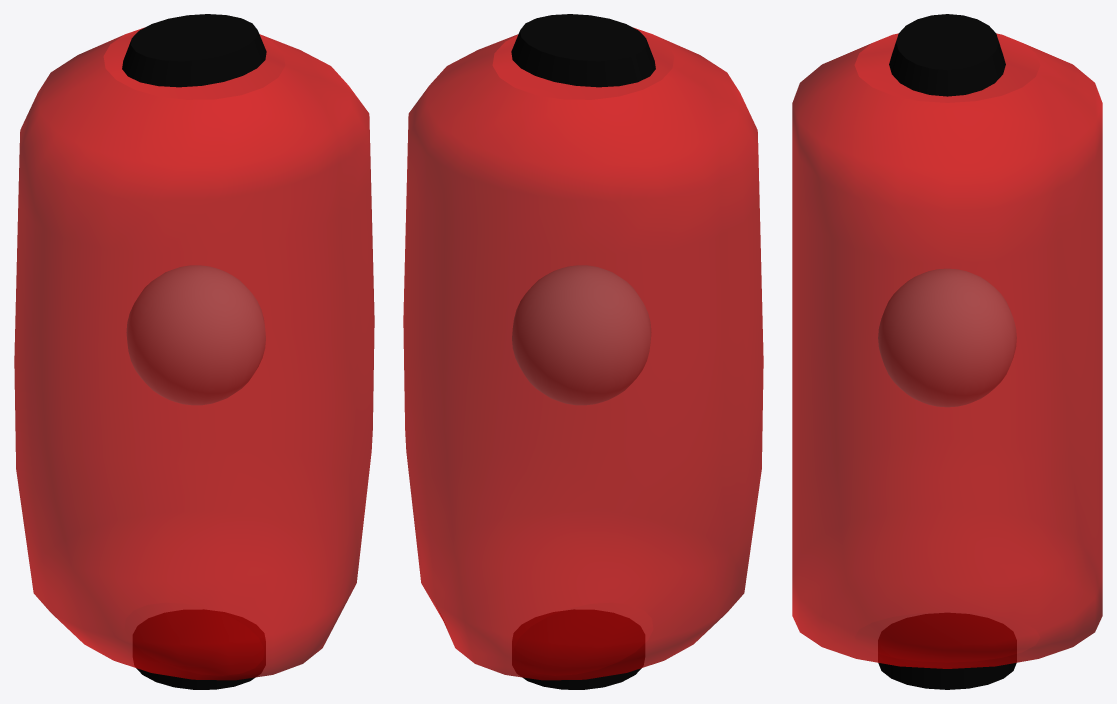
The model's file is RedLantern.fbx.
3 views of the same model, side by side, from view 1: azimuth 30°, elevation 25°; view 2: azimuth 150°, elevation 25°; view 3: azimuth 270°, elevation 25° (orthographic).
Parts seen in each view (by area): view 1: Body, LigthSource, BottomCap, TopCap; view 2: Body, LigthSource, BottomCap, TopCap; view 3: Body, LigthSource, BottomCap, TopCap.
Boxes of the visible parts, bbox=[...] form: Body: bbox=[14, 27, 374, 680]; LigthSource: bbox=[126, 265, 265, 404]; BottomCap: bbox=[133, 610, 265, 689]; TopCap: bbox=[122, 14, 266, 87]; Body: bbox=[403, 27, 763, 680]; LigthSource: bbox=[512, 265, 651, 404]; BottomCap: bbox=[512, 610, 644, 689]; TopCap: bbox=[511, 14, 655, 87]; Body: bbox=[792, 33, 1102, 668]; LigthSource: bbox=[878, 269, 1016, 406]; BottomCap: bbox=[878, 613, 1016, 689]; TopCap: bbox=[889, 14, 1005, 96].
Size of the model in its own units: 5.39 by 9.82 by 4.47.
